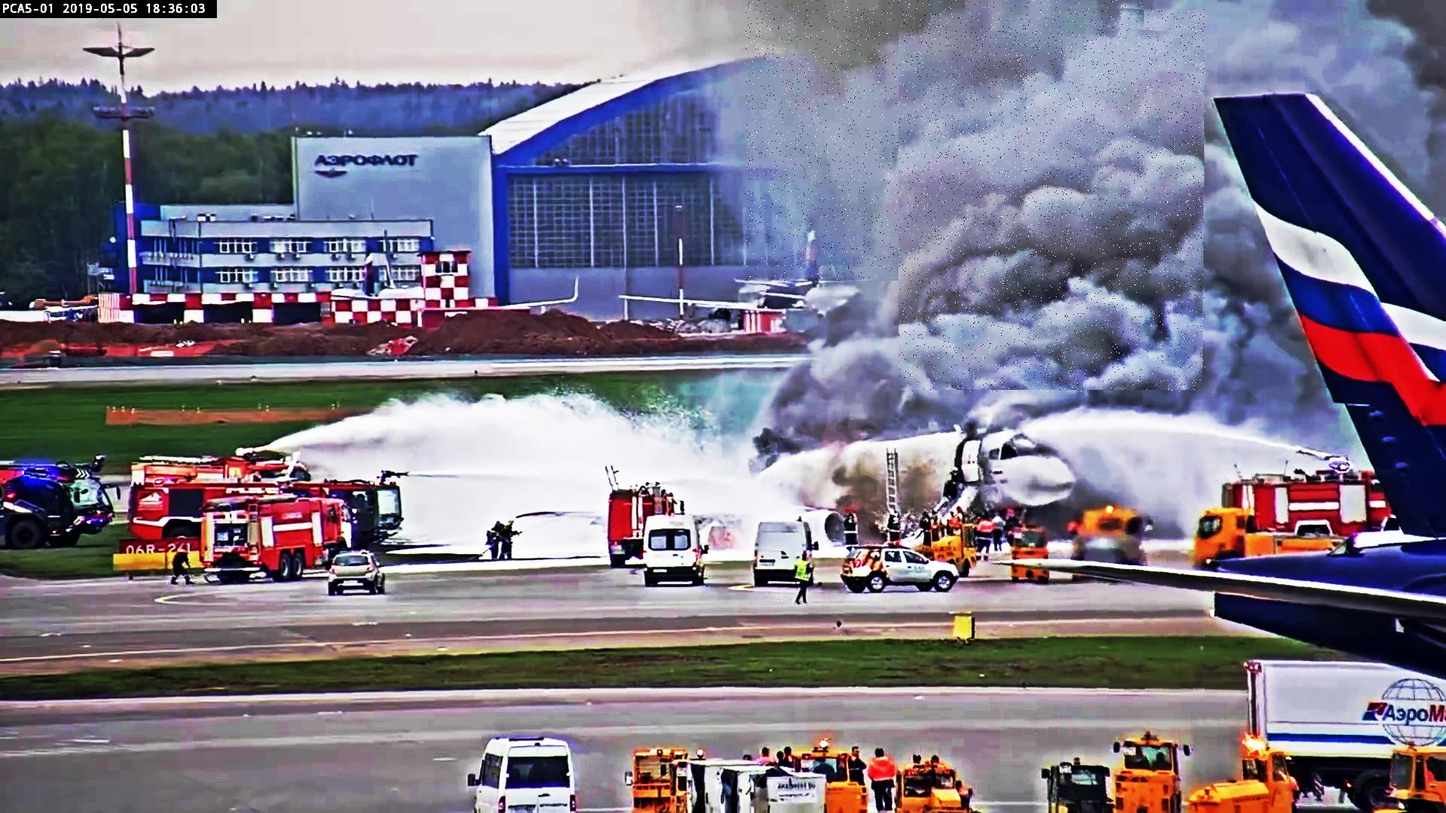smoke: (899, 10, 1205, 392), (745, 0, 1143, 281)
